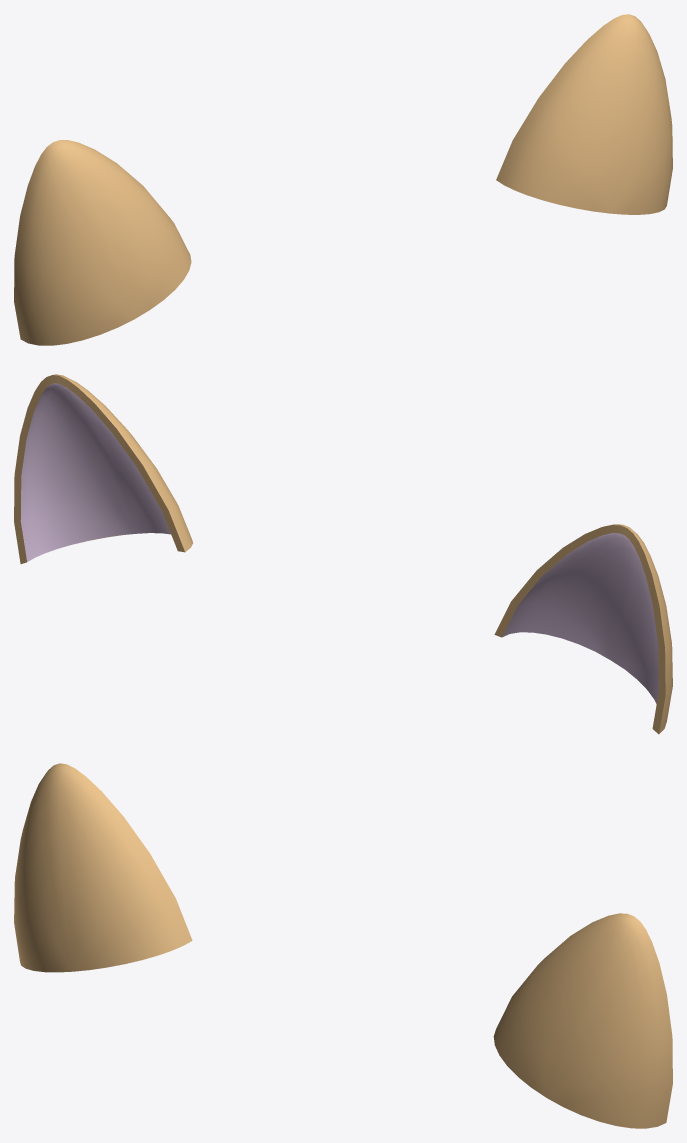
File: Cat Ears.fbx
3 renders of one model, top to bottom at view 1: azimuth 30°, elevation 25°; view 2: azimuth 150°, elevation 25°; view 3: azimuth 330°, elevation 25°, orthographic. The views are drawn at different scales.
Visible parts, largest first — view 1: 0.Cat Ears; view 2: 0.Cat Ears; view 3: 0.Cat Ears.
Part boxes in pixels (left/top/right/bottom): 0.Cat Ears: left=14, top=14, right=672, bottom=345; 0.Cat Ears: left=14, top=374, right=672, bottom=734; 0.Cat Ears: left=14, top=763, right=672, bottom=1128.
Size of the model in its own units: 162 by 46.12 by 20.16.
